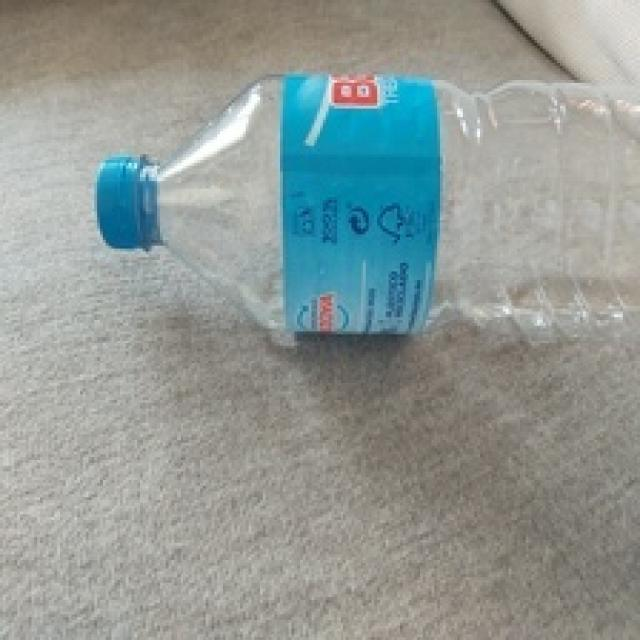Plastic: (97, 75, 640, 337)
